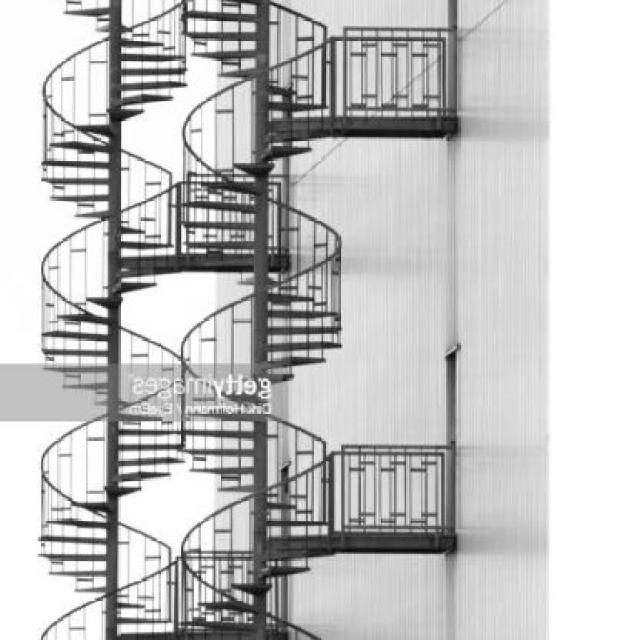stair: (12, 10, 465, 267), (30, 414, 175, 636), (188, 418, 318, 639), (220, 284, 342, 386), (40, 300, 136, 394)
